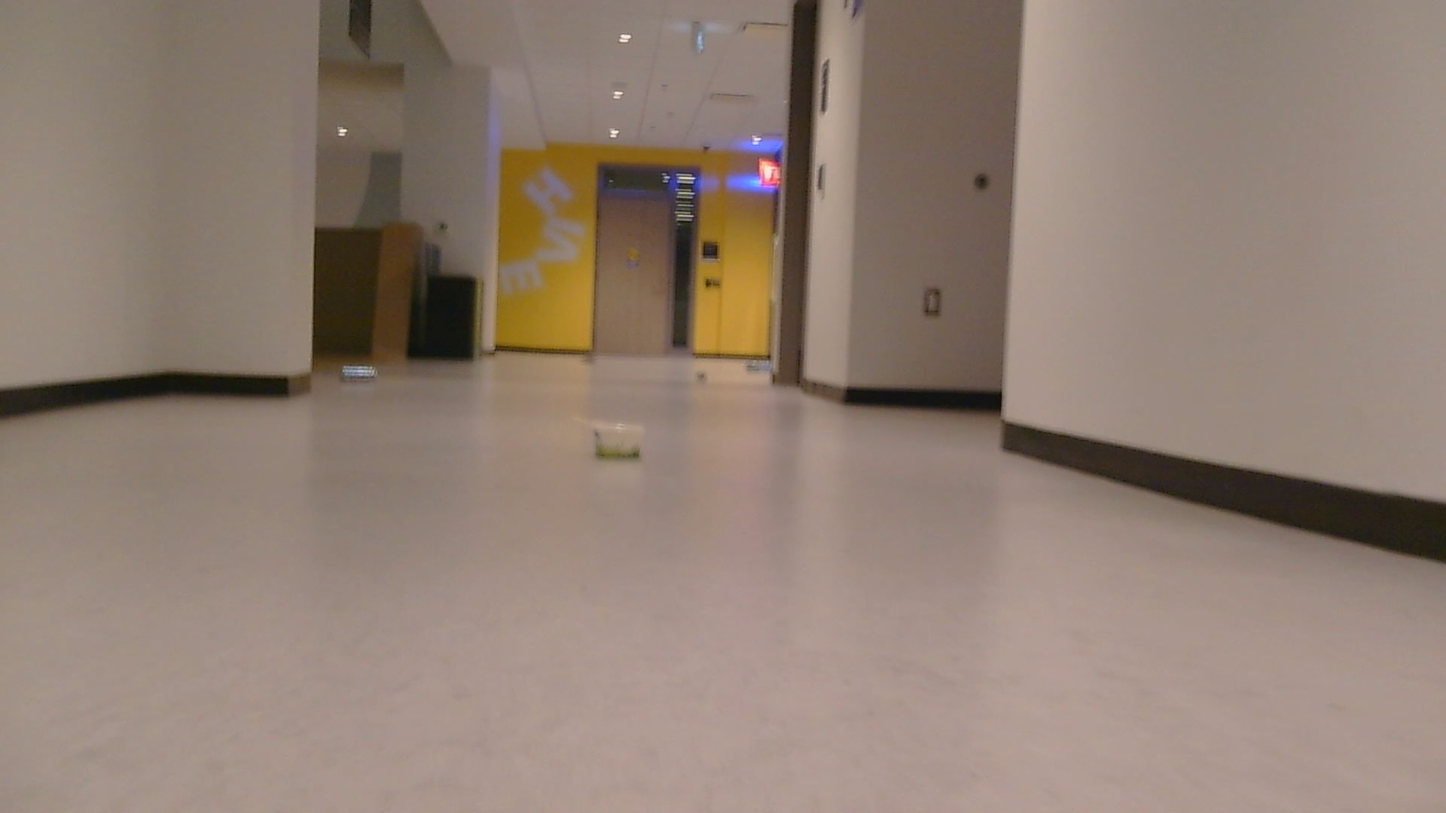can: (625, 442, 627, 443)
carton: (571, 411, 667, 469), (333, 358, 401, 395), (744, 357, 782, 379), (578, 343, 596, 365), (693, 364, 713, 382)
